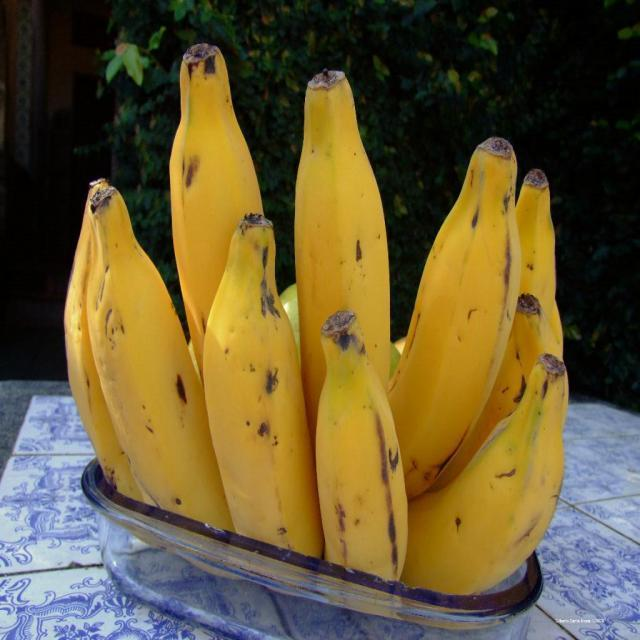Banana: (62, 39, 572, 630)
